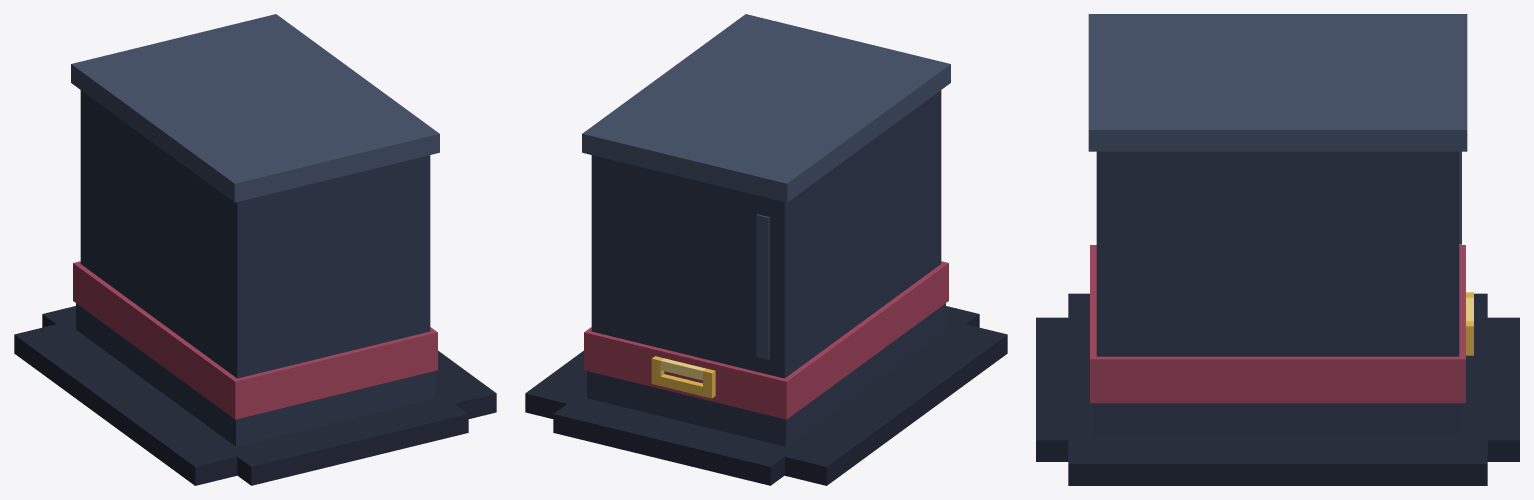
File: top_hat.glb
3 views of the same model, side by side, from view 1: azimuth 30°, elevation 25°; view 2: azimuth 150°, elevation 25°; view 3: azimuth 270°, elevation 25° (orthographic). The views are drawn at different scales.
Visible parts, largest first — view 1: tall_crown, polished_top, brim_center, velvet_ribbon, lower_crown, brim_back; view 2: tall_crown, polished_top, brim_center, velvet_ribbon, lower_crown, brim_front, silk_glint, buckle_top, buckle_bottom; view 3: tall_crown, polished_top, brim_center, velvet_ribbon, lower_crown, brim_front, brim_back.
Part boxes in pixels (left/top/right/bottom): tall_crown: left=80, top=90, right=430, bottom=378; polished_top: left=71, top=14, right=439, bottom=202; brim_center: left=14, top=319, right=496, bottom=485; velvet_ribbon: left=73, top=261, right=437, bottom=419; lower_crown: left=76, top=303, right=434, bottom=446; brim_back: left=237, top=404, right=468, bottom=485; tall_crown: left=591, top=90, right=941, bottom=378; polished_top: left=582, top=14, right=950, bottom=202; brim_center: left=525, top=319, right=1007, bottom=485; velvet_ribbon: left=584, top=261, right=948, bottom=419; lower_crown: left=587, top=303, right=945, bottom=446; brim_front: left=553, top=404, right=784, bottom=485; silk_glint: left=756, top=214, right=769, bottom=359; buckle_top: left=660, top=358, right=705, bottom=380; buckle_bottom: left=660, top=374, right=702, bottom=396; tall_crown: left=1096, top=151, right=1459, bottom=356; polished_top: left=1088, top=14, right=1467, bottom=151; brim_center: left=1068, top=293, right=1487, bottom=485; velvet_ribbon: left=1090, top=245, right=1465, bottom=403; lower_crown: left=1092, top=403, right=1463, bottom=434; brim_front: left=1487, top=317, right=1519, bottom=461; brim_back: left=1036, top=317, right=1068, bottom=461.
Size of the model in its own units: 0.3125 by 0.2812 by 0.375.
